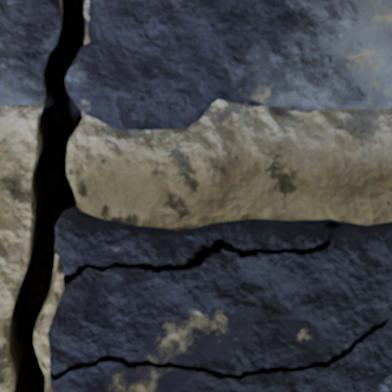brick: (48, 222, 391, 391), (56, 209, 337, 274)
broken_brick: (66, 0, 391, 130), (0, 0, 59, 105)
crack: (2, 0, 390, 391), (63, 222, 342, 284)
